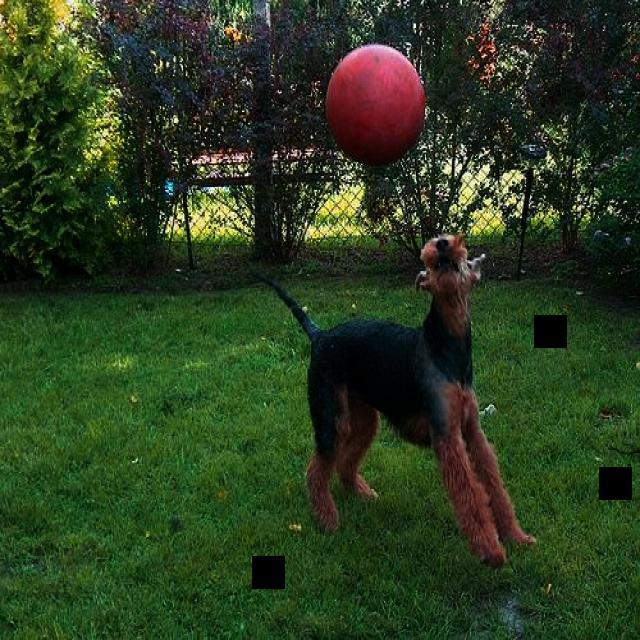adult_dog: (251, 227, 540, 572)
